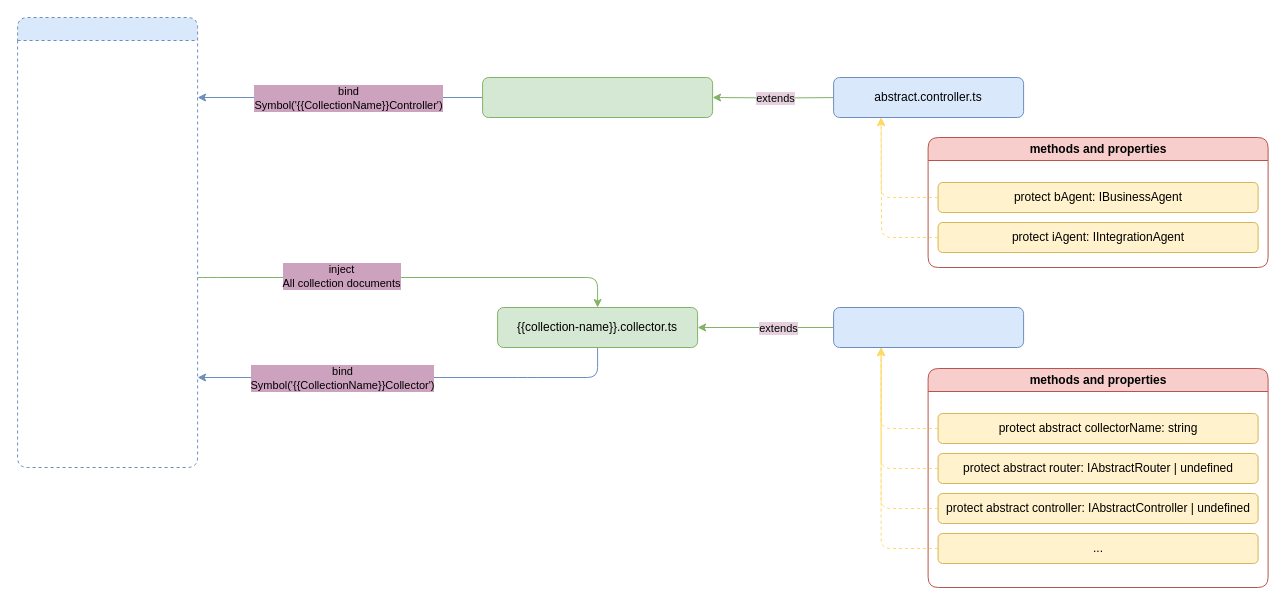
Some shapes in this 1286 by 605 pixel diagram are drawn without their labels. Here are the shapes that lost their labels. From the top down, the box of each, then its label:
(482, 76, 713, 118): {{collection-name}}.controller.ts
(17, 16, 198, 468): ioc.{{application-name}}.ts
(833, 306, 1024, 348): abstract.collector.ts
